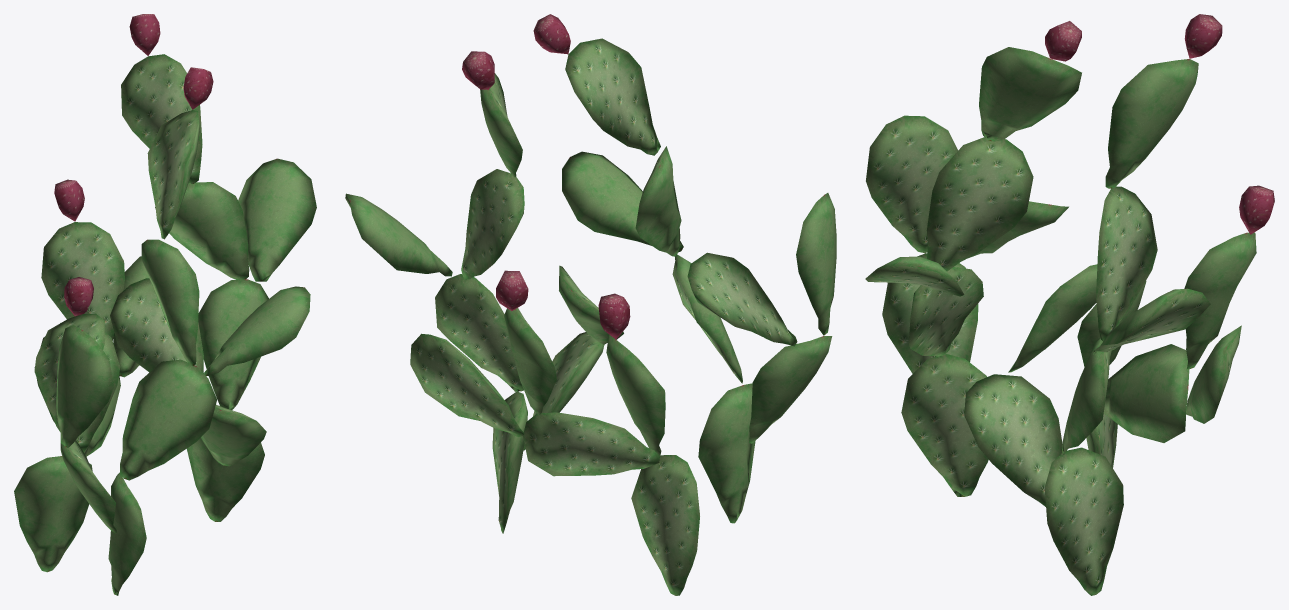
The model's file is Opuntia_Aciculata_Autumn_Adult.glb.
3 views of the same model, side by side, from view 1: azimuth 30°, elevation 25°; view 2: azimuth 150°, elevation 25°; view 3: azimuth 270°, elevation 25° (orthographic). The views are drawn at different scales.
Visible parts, largest first — view 1: Opuntia_Aciculata_Autumn_Adult__LOD3; view 2: Opuntia_Aciculata_Autumn_Adult__LOD3; view 3: Opuntia_Aciculata_Autumn_Adult__LOD3.
Boxes of the visible parts, <box> form: Opuntia_Aciculata_Autumn_Adult__LOD3: <box>14,14,316,595</box>; Opuntia_Aciculata_Autumn_Adult__LOD3: <box>345,14,836,595</box>; Opuntia_Aciculata_Autumn_Adult__LOD3: <box>865,14,1274,595</box>.
Size of the model in its own units: 0.8136 by 1.11 by 0.7096.
Materials: 2 (2 with a texture image).
